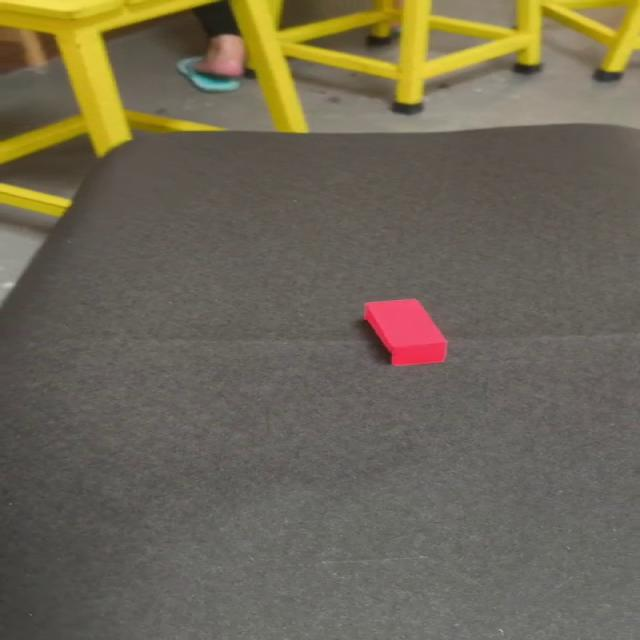red block: (361, 297, 448, 366)
